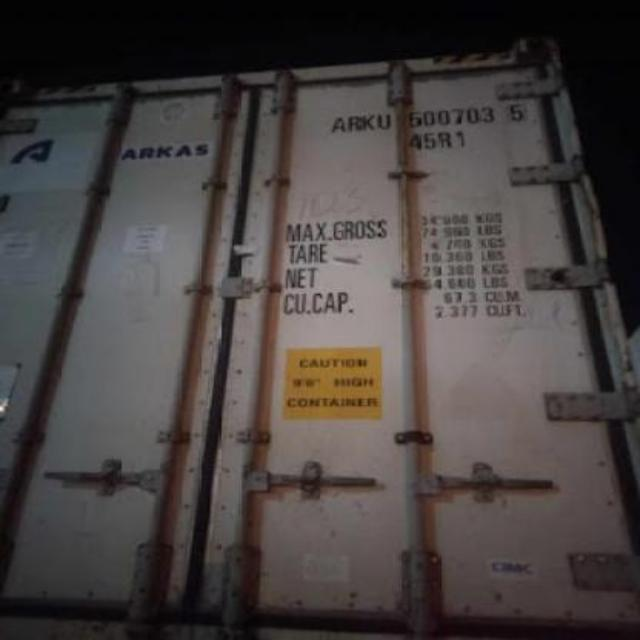0: (434, 108, 454, 128), (420, 110, 436, 126), (468, 106, 482, 124)
3: (482, 105, 498, 128)
5: (508, 103, 526, 123), (408, 109, 422, 129)
7: (448, 108, 468, 126)
A: (328, 114, 348, 136)
K: (360, 112, 376, 132)
R: (348, 114, 362, 134)
U: (378, 111, 392, 132)
